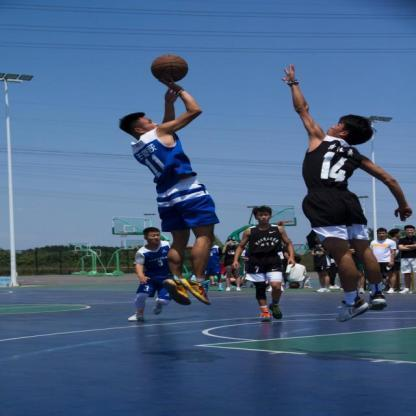basketball: (150, 54, 189, 82)
